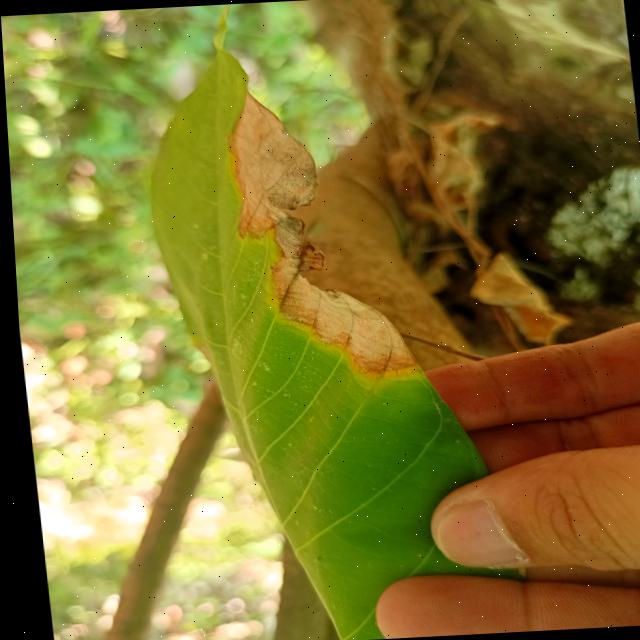Leaf-Blight: (219, 80, 416, 380)
